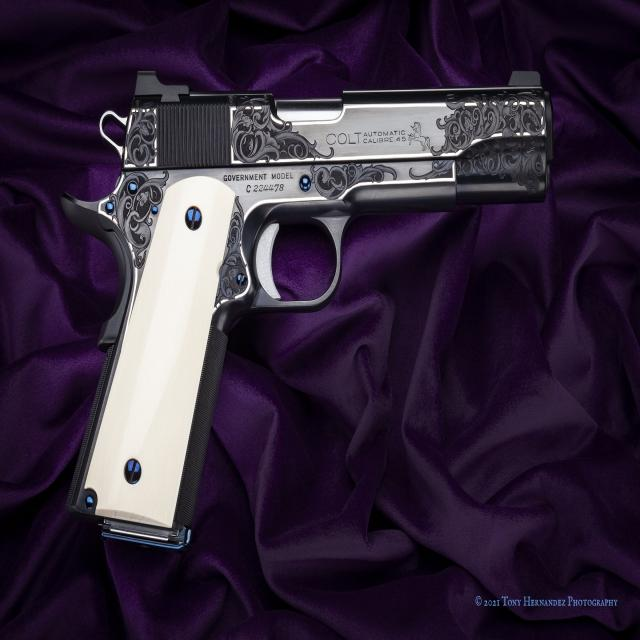HandGun: (59, 71, 552, 553)
